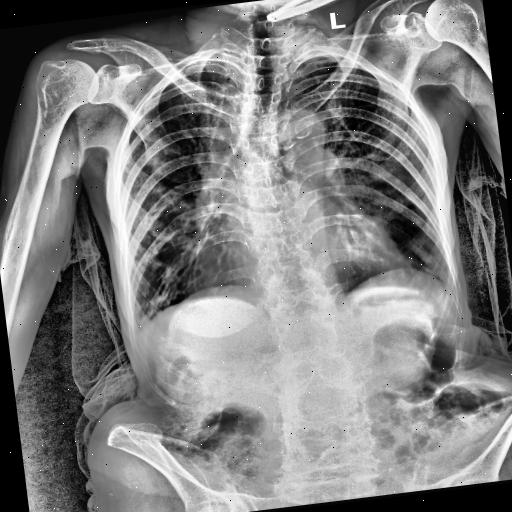0- Aortic enlargement: (266, 104, 324, 160), (275, 106, 327, 162), (266, 104, 326, 151)
10- Pleural effusion: (125, 314, 149, 348), (130, 327, 146, 343)
11- Pleural thickening: (125, 314, 149, 348), (130, 327, 146, 343)
13- Pulmonary fibrosis: (134, 246, 210, 324)
3- Cardiomegaly: (182, 208, 400, 298), (198, 226, 400, 312)
7- Lung Opacity: (188, 155, 252, 293)
